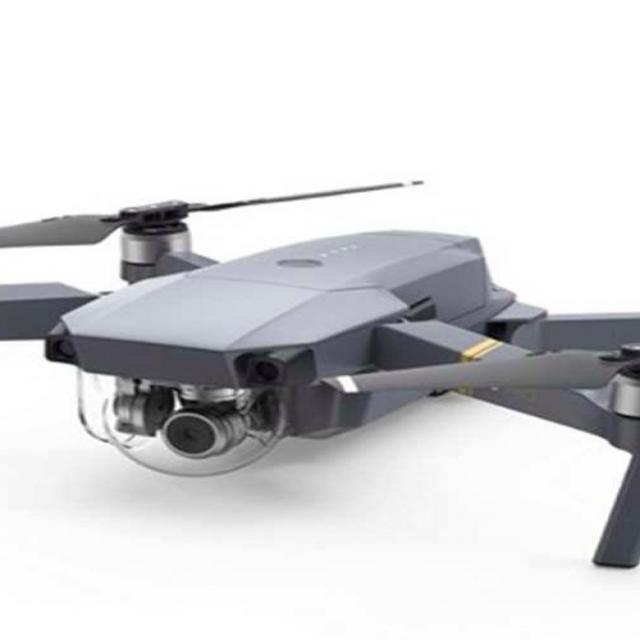drone: (0, 142, 640, 584)
